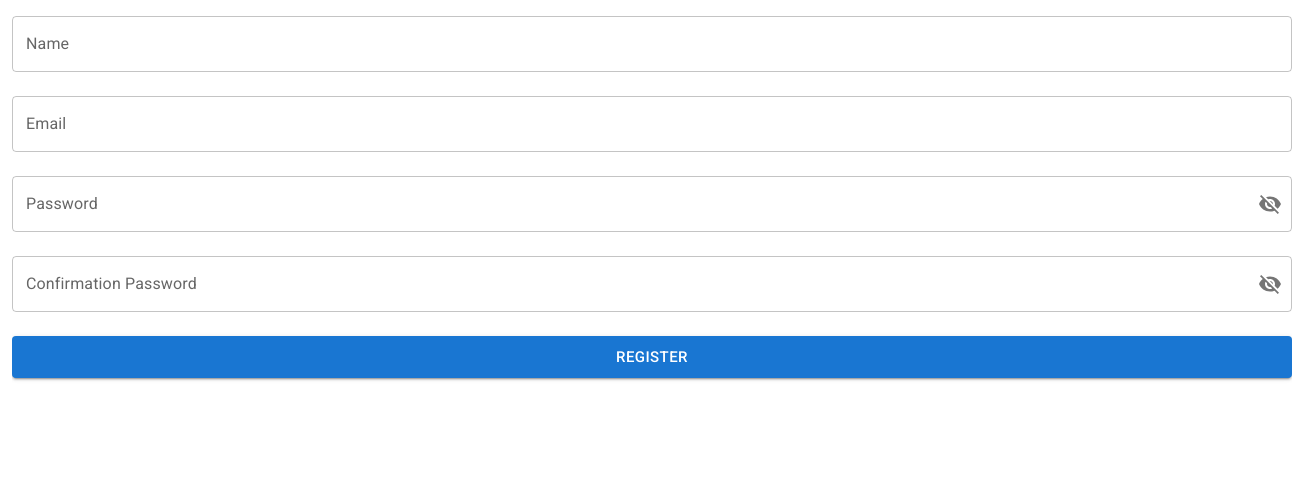
Test: RegisterInput Component › should showing error msg when password input less than 6 char
Type "pass" into the password field with placeholder "Password" at (627, 204), box left=12, top=176, right=1242, bottom=232
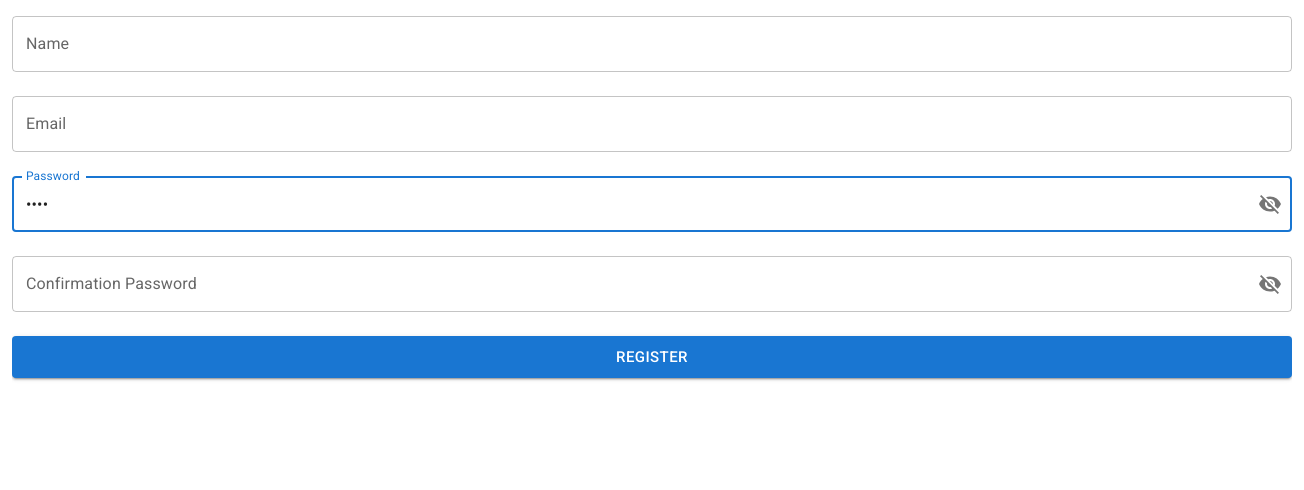
Click the button "Register" at (652, 357), box left=12, top=336, right=1292, bottom=378
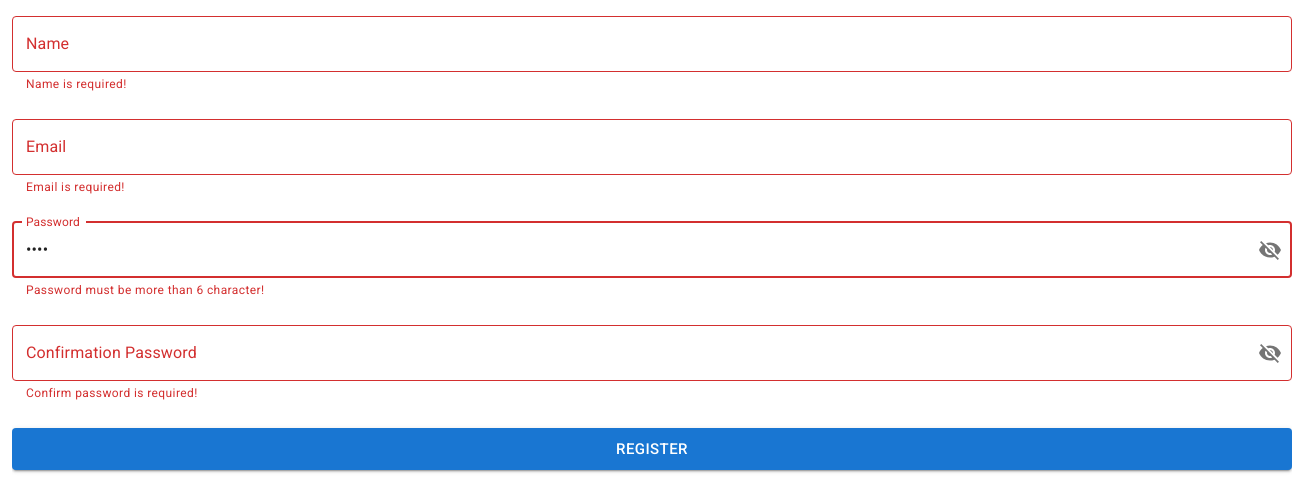
Expected: the text "Password must be more than 6 character!" is shown, left=26, top=283, right=264, bottom=297
